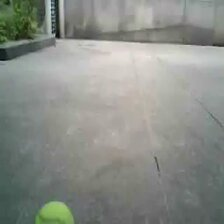tennis: (34, 200, 74, 224)
